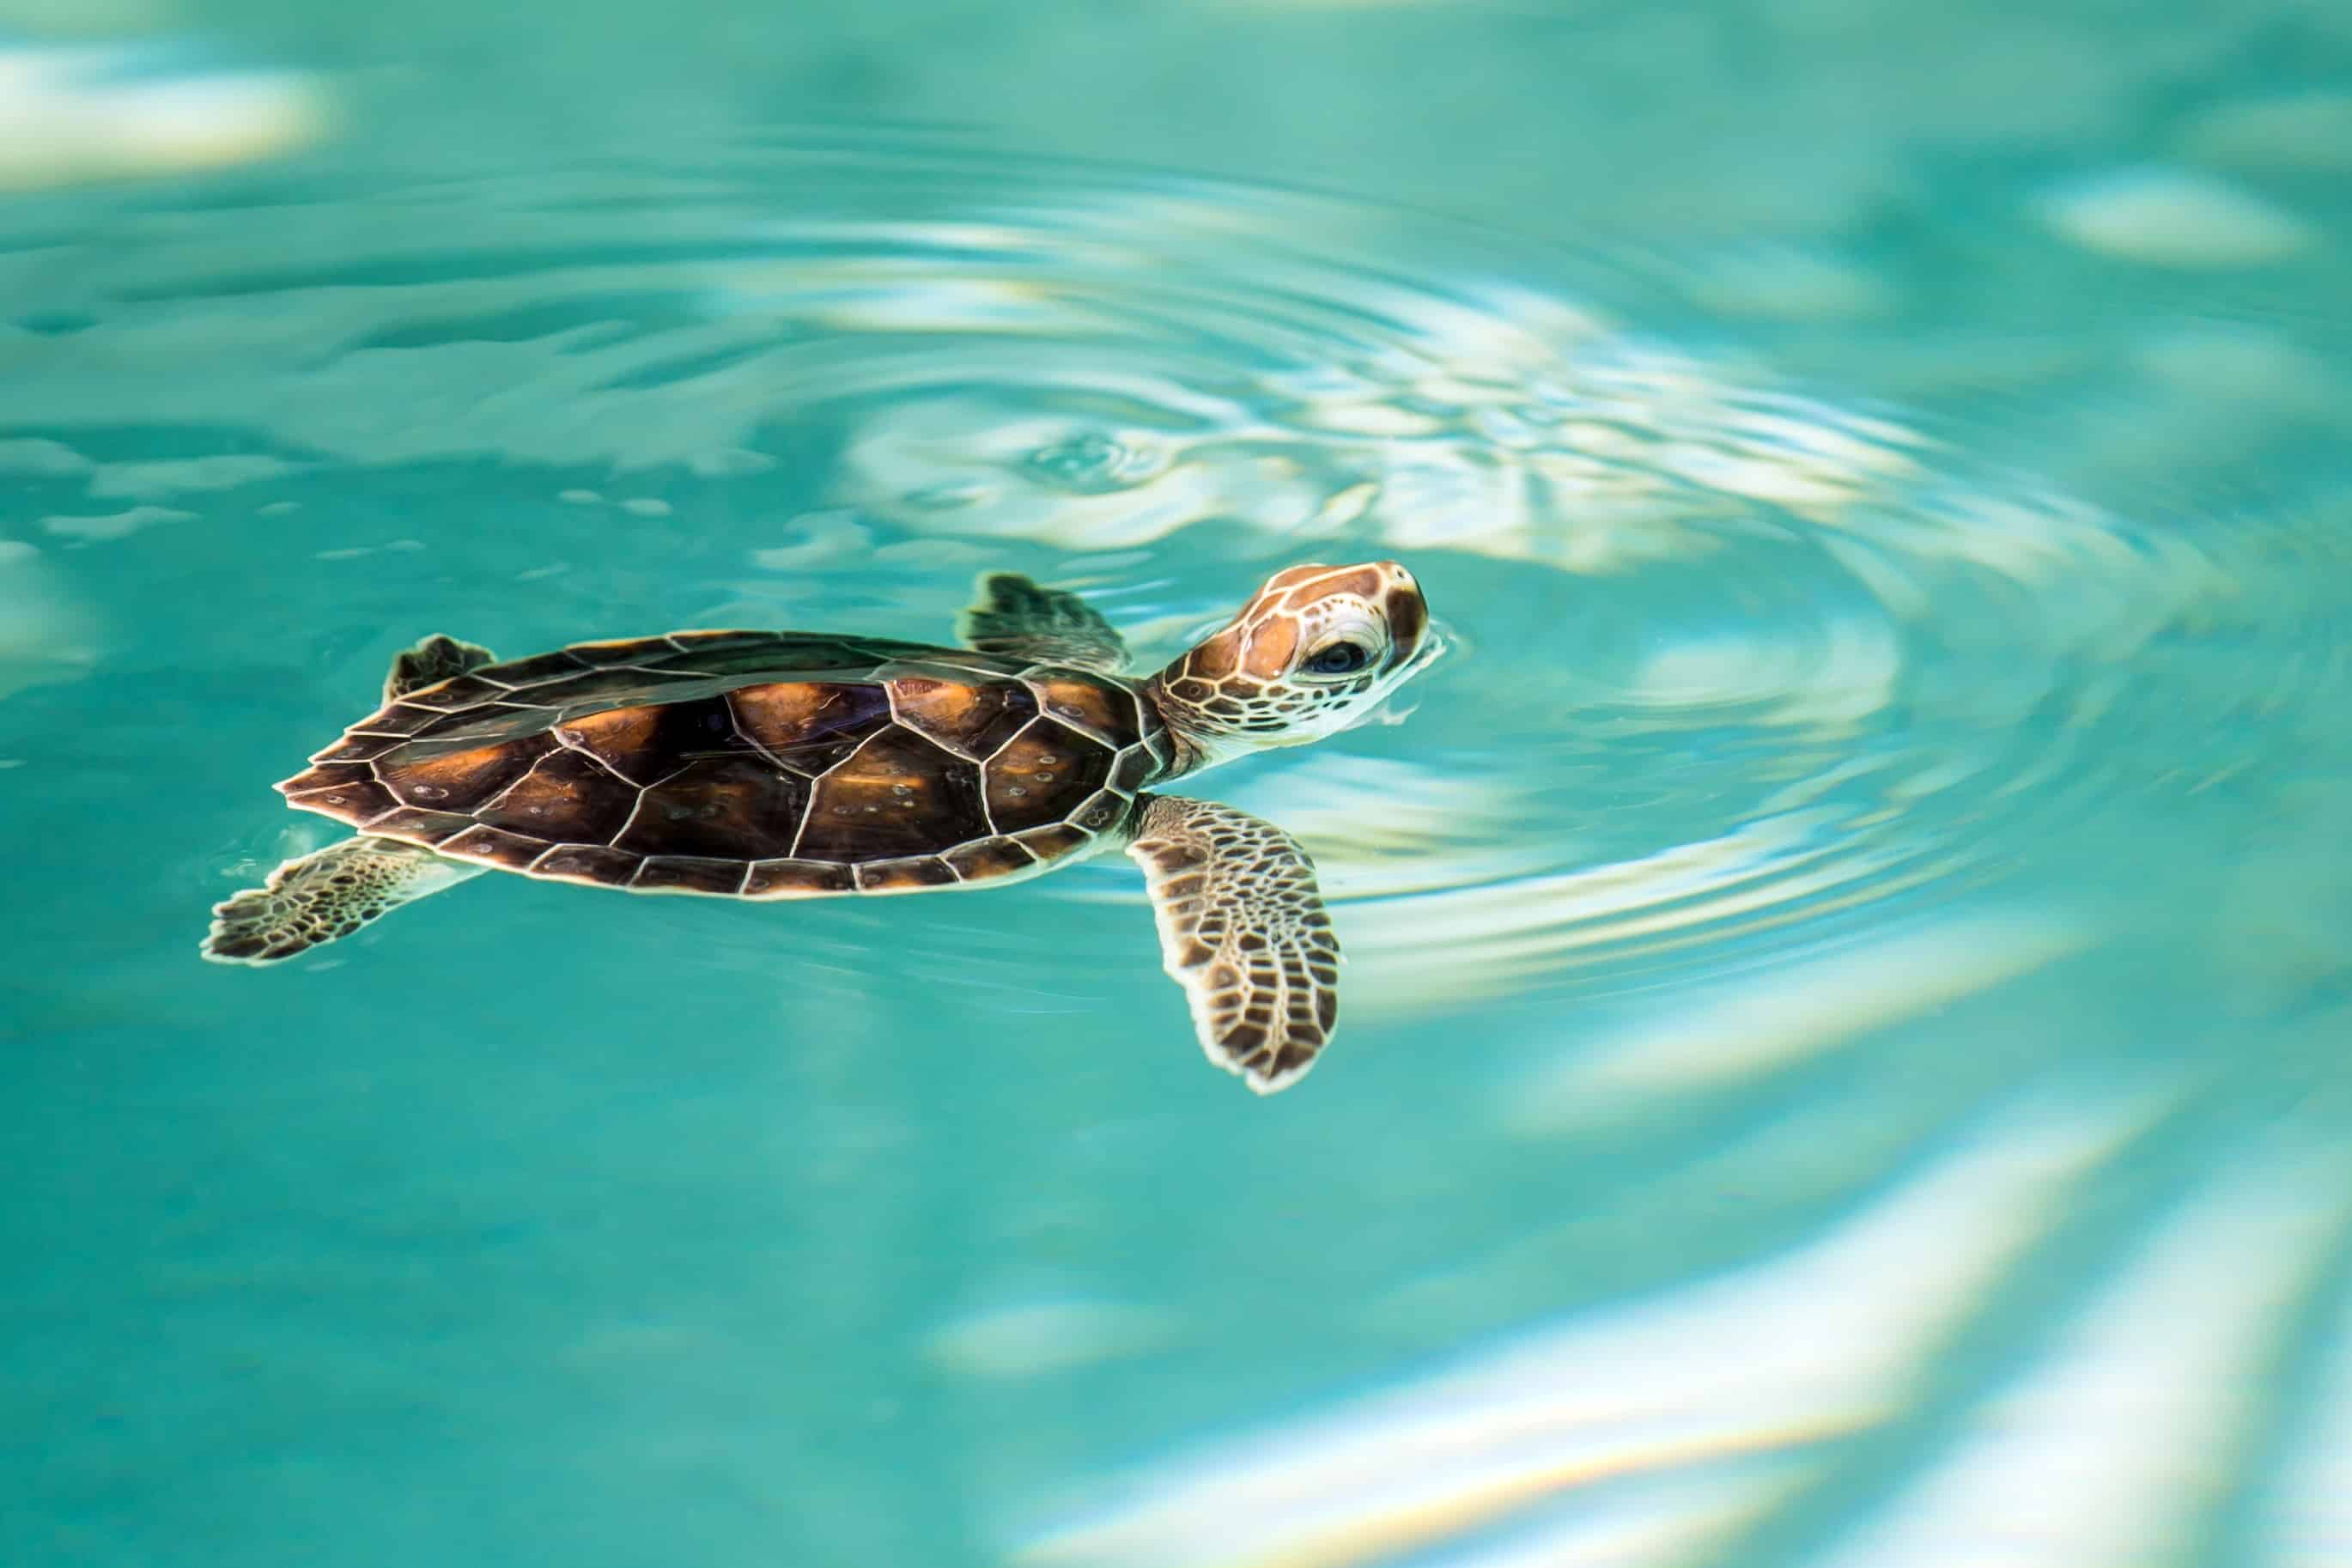eye: (1291, 612, 1386, 691)
mouth: (1391, 593, 1435, 675)
